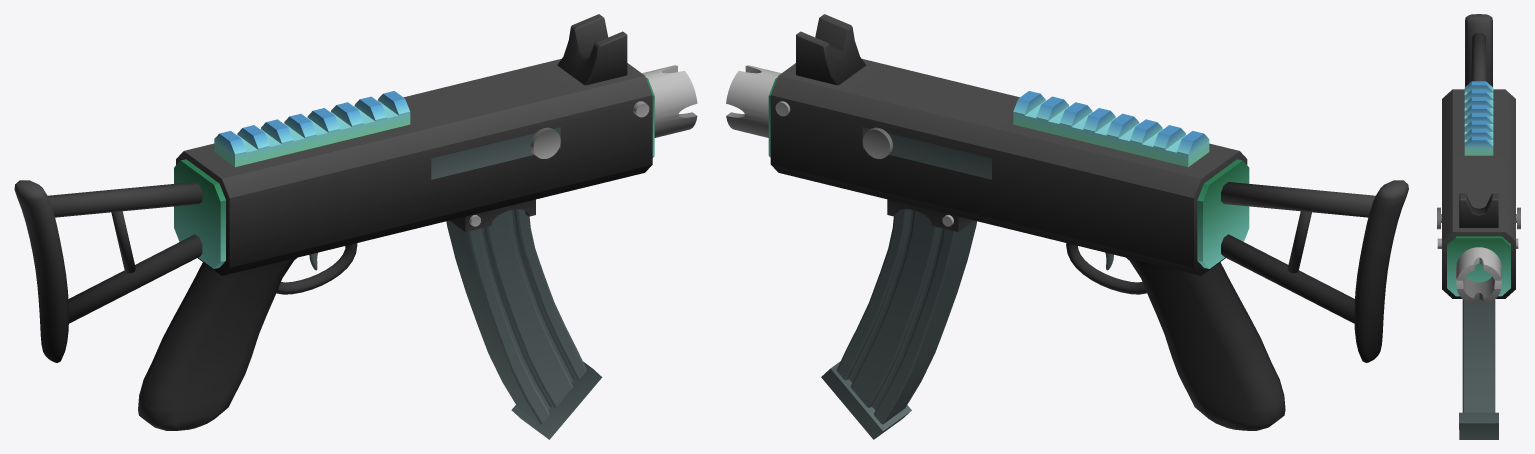
Rendered from weapon_smg.glb.
3 renders of one model, left to right at view 1: azimuth 30°, elevation 25°; view 2: azimuth 150°, elevation 25°; view 3: azimuth 270°, elevation 25°, orthographic. The views are drawn at different scales.
Parts seen in each view (by area): view 1: Body.001, Magazine.001, Handle.001, Tacticalrail.001, Stock_end.001, Body_inside.001, Stock_upper.001, Front_Sight.001, Stock_lower.001, Barrel.001, Cube.002, magazine_end.001 (+4 smaller); view 2: Body.001, Magazine.001, Handle.001, Tacticalrail.001, Stock_end.001, Body_inside.001, Stock_upper.001, Front_Sight.001, Stock_lower.001, Barrel.001, Cube.002, magazine_end.001 (+4 smaller); view 3: Body.001, Magazine.001, Tacticalrail.001, Body_inside.001, Barrel.001, Stock_end.001, Front_Sight.001, magazine_end.001, Stock_upper.001, Cylinder.001.
Boxes of the visible parts, bbox=[...] form: Body.001: bbox=[176, 59, 652, 275]; Magazine.001: bbox=[446, 209, 586, 424]; Handle.001: bbox=[138, 258, 296, 430]; Tacticalrail.001: bbox=[214, 91, 410, 167]; Stock_end.001: bbox=[14, 180, 68, 362]; Body_inside.001: bbox=[174, 77, 654, 268]; Stock_upper.001: bbox=[47, 182, 202, 217]; Front_Sight.001: bbox=[557, 14, 627, 85]; Stock_lower.001: bbox=[68, 234, 202, 323]; Barrel.001: bbox=[642, 65, 697, 137]; Cube.002: bbox=[431, 127, 560, 179]; magazine_end.001: bbox=[511, 361, 602, 439]; Body.001: bbox=[770, 59, 1247, 275]; Magazine.001: bbox=[836, 209, 976, 424]; Handle.001: bbox=[1126, 257, 1285, 430]; Tacticalrail.001: bbox=[1013, 91, 1209, 167]; Stock_end.001: bbox=[1354, 180, 1408, 362]; Body_inside.001: bbox=[768, 77, 1249, 268]; Stock_upper.001: bbox=[1221, 182, 1375, 217]; Front_Sight.001: bbox=[796, 14, 865, 85]; Stock_lower.001: bbox=[1221, 234, 1354, 323]; Barrel.001: bbox=[726, 65, 781, 137]; Cube.002: bbox=[862, 127, 991, 179]; magazine_end.001: bbox=[821, 361, 911, 439]; Body.001: bbox=[1442, 89, 1515, 298]; Magazine.001: bbox=[1462, 299, 1495, 412]; Tacticalrail.001: bbox=[1464, 81, 1493, 155]; Body_inside.001: bbox=[1447, 236, 1510, 296]; Barrel.001: bbox=[1456, 247, 1501, 304]; Stock_end.001: bbox=[1465, 14, 1492, 86]; Front_Sight.001: bbox=[1459, 193, 1498, 227]; magazine_end.001: bbox=[1459, 412, 1498, 439]; Stock_upper.001: bbox=[1472, 33, 1485, 81]; Cylinder.001: bbox=[1437, 207, 1520, 229].
Size of the model in its own units: 0.5952 by 0.3319 by 0.0943.
1 material, 1 textured.
